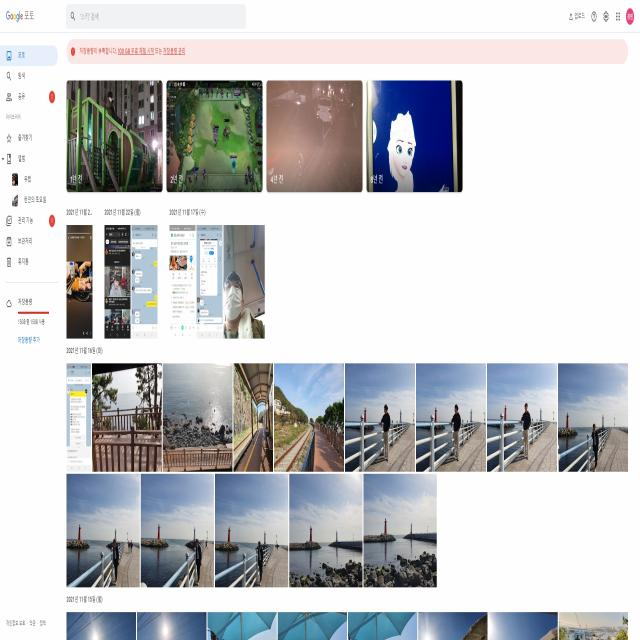menu-bar: (567, 7, 637, 29)
